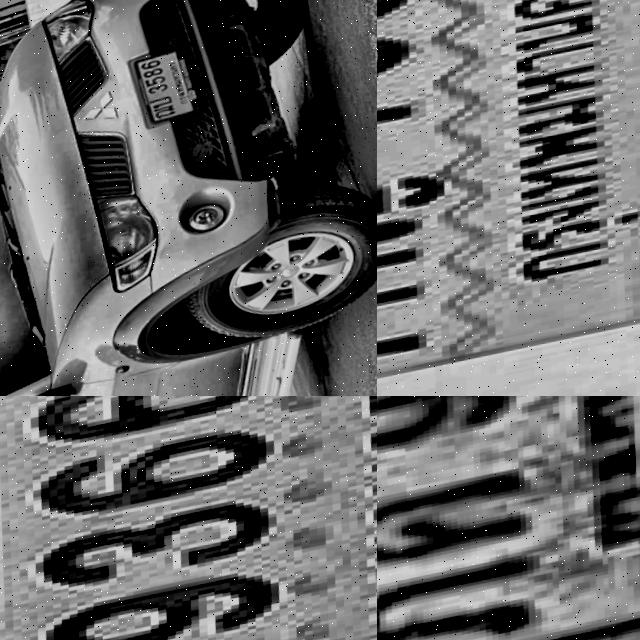license-plate: (377, 0, 640, 396), (0, 396, 377, 640), (377, 396, 640, 640), (128, 48, 213, 135)
